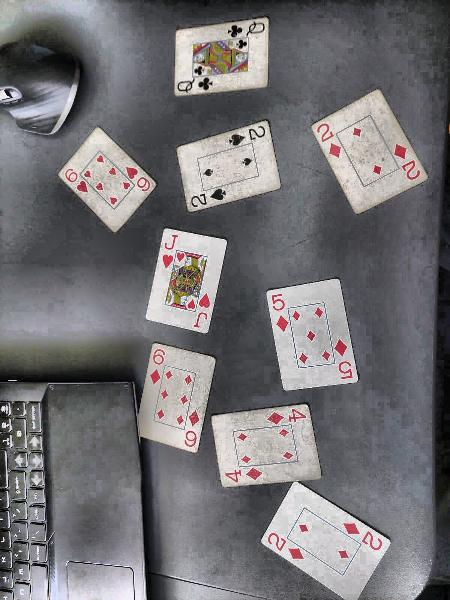2D: (342, 521, 383, 551), (267, 531, 305, 560), (393, 143, 421, 181), (317, 122, 343, 159)
2P: (228, 124, 266, 149), (190, 187, 227, 209)
4D: (224, 466, 263, 484), (266, 408, 307, 425)
5D: (334, 337, 353, 381), (271, 293, 290, 333)
6C: (125, 166, 152, 194), (64, 168, 89, 194)
6D: (183, 409, 201, 448), (150, 347, 166, 385)
JC: (193, 291, 212, 328), (161, 233, 179, 270)
QT: (177, 75, 215, 94), (226, 20, 266, 37)
